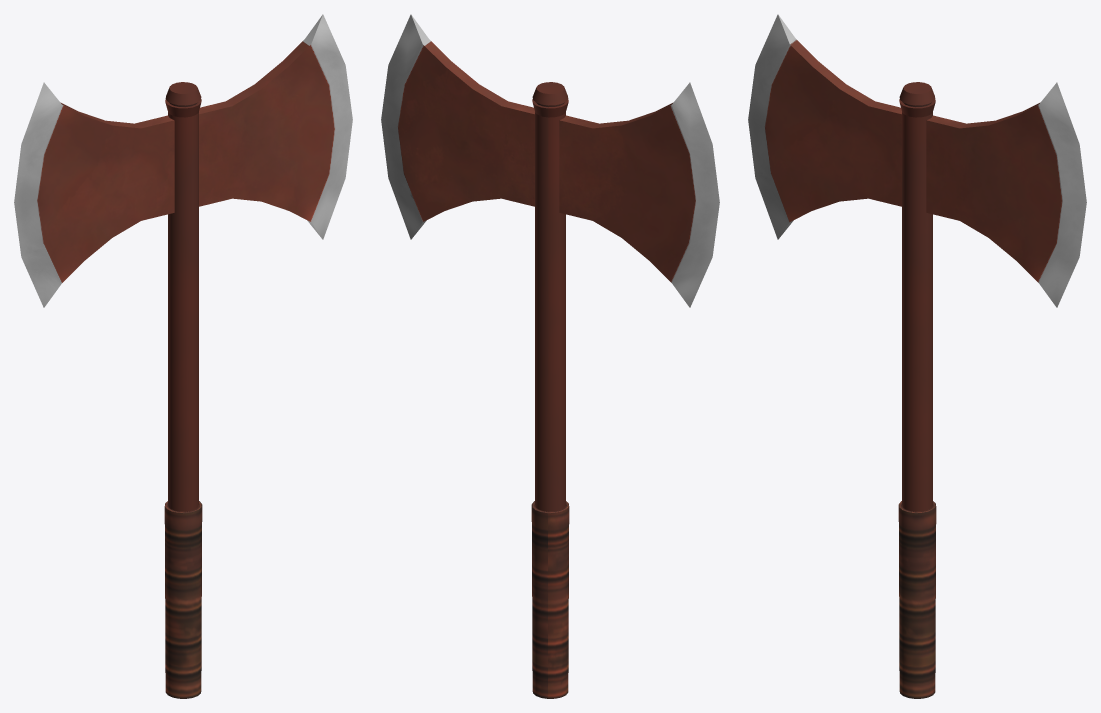
Rendered from Medieval Axe.fbx.
3 views of the same model, side by side, from view 1: azimuth 30°, elevation 25°; view 2: azimuth 150°, elevation 25°; view 3: azimuth 330°, elevation 25° (orthographic).
Visible parts, largest first — view 1: Medieval_Axe; view 2: Medieval_Axe; view 3: Medieval_Axe.
Part boxes in pixels (<box>): Medieval_Axe: <box>14,14,352,698</box>; Medieval_Axe: <box>381,14,719,698</box>; Medieval_Axe: <box>748,14,1086,698</box>.
Size of the model in its own units: 2.69 by 4.89 by 0.2605.
